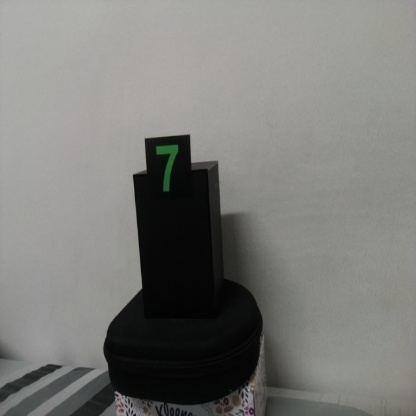id_7: (146, 137, 192, 209)
